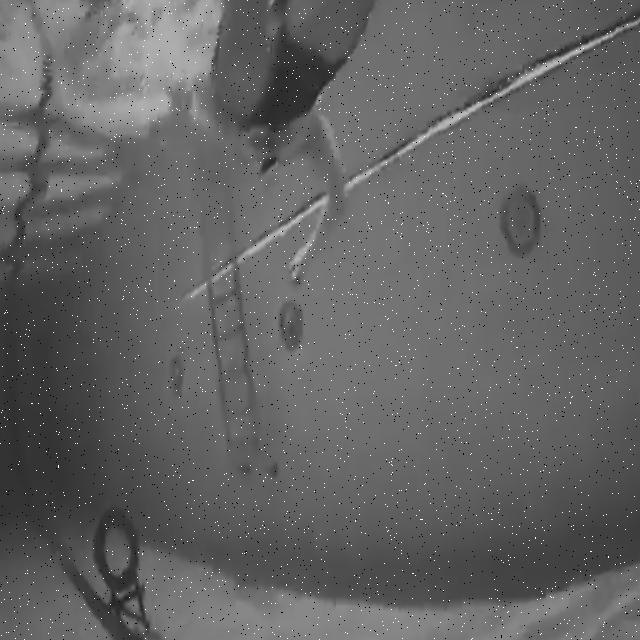Circle: (93, 496, 142, 597)
